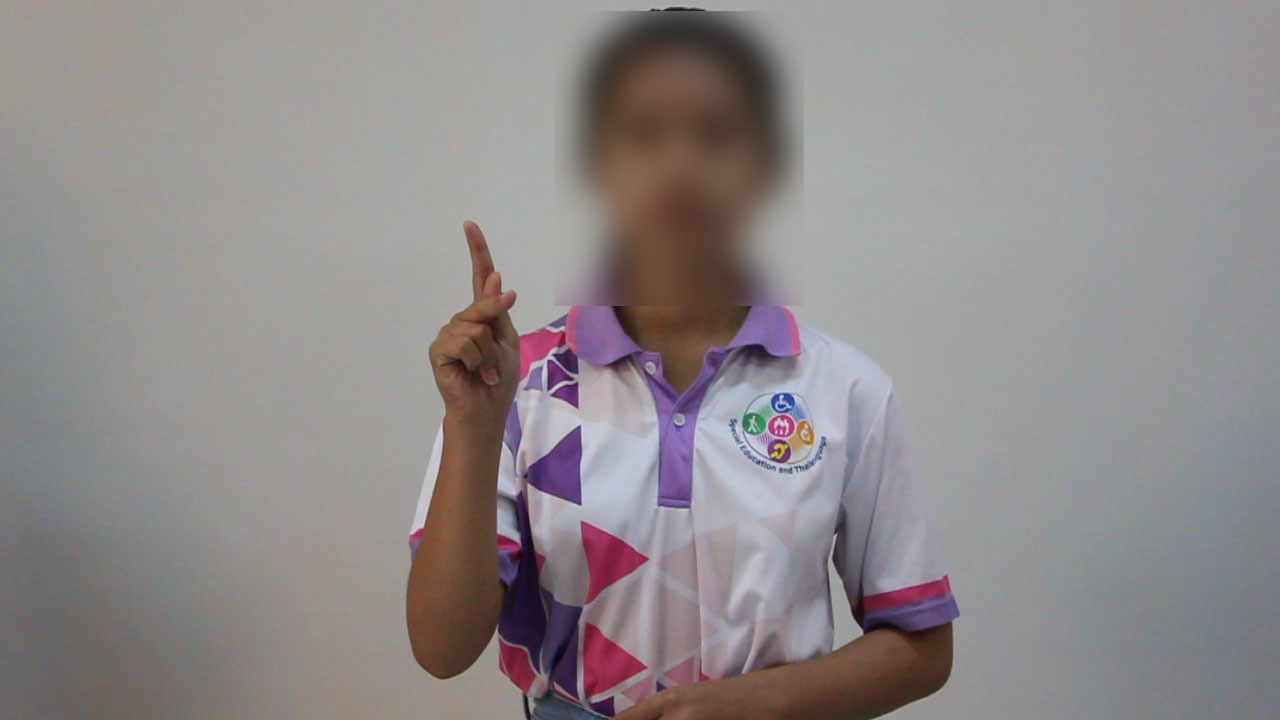ko: (407, 206, 555, 412)
